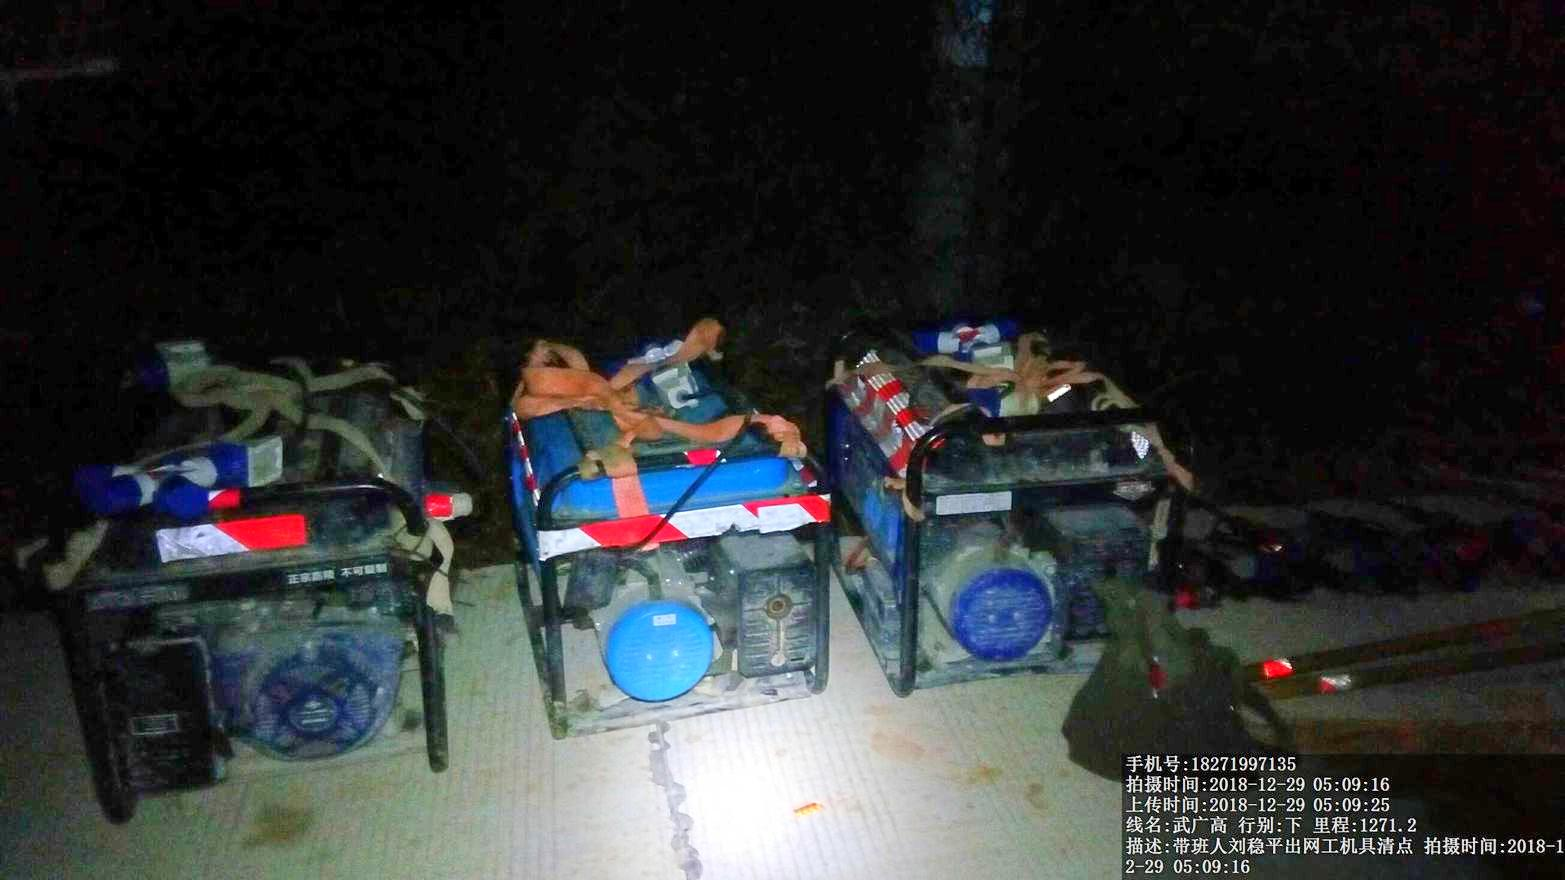DJ: (48, 357, 450, 787), (496, 334, 832, 741), (818, 337, 1157, 670)
